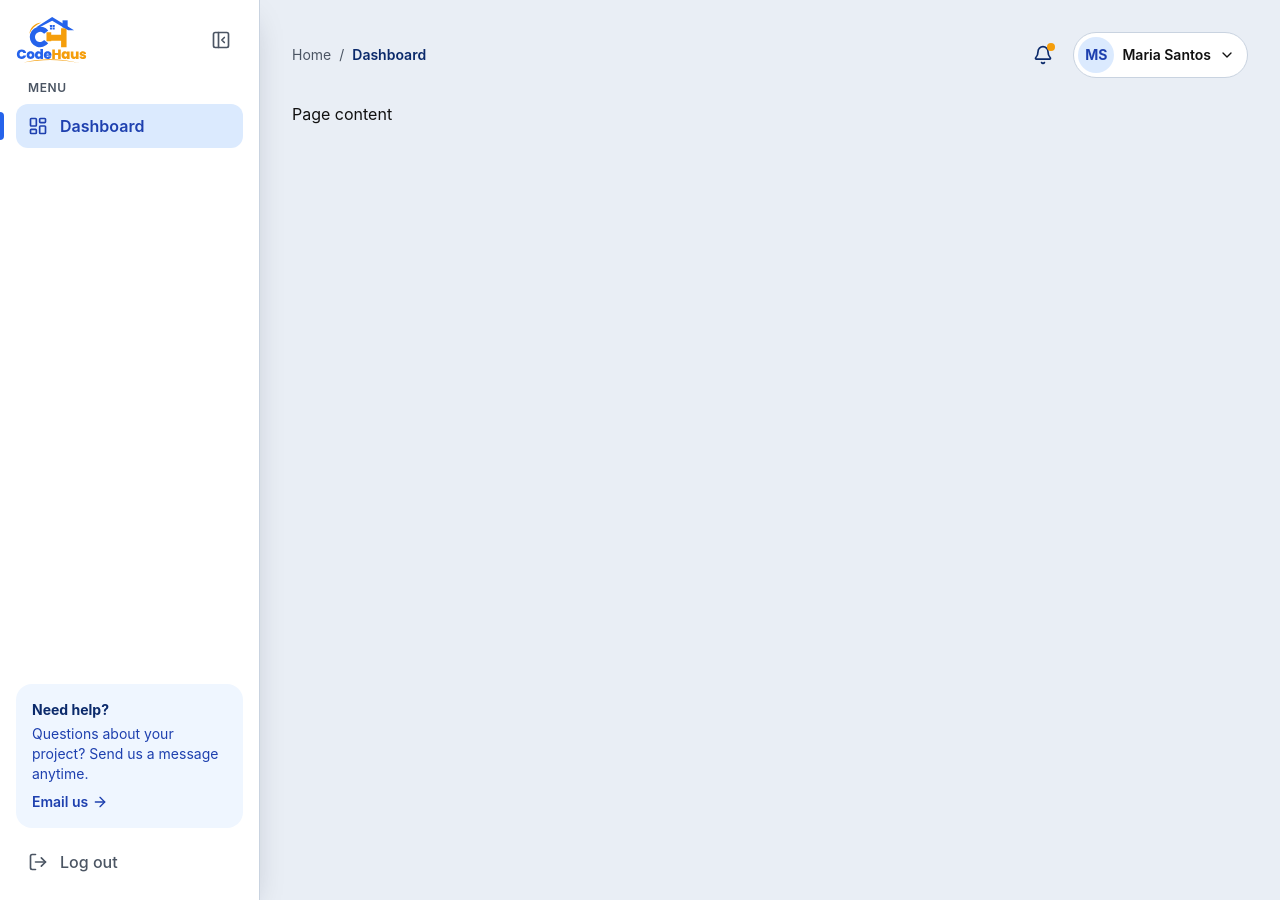
Test: collapsible sidebar › changes aria-expanded and the label on each click
Click the button named "Collapse sidebar". click: (221, 40)
box: [199,18,243,62]
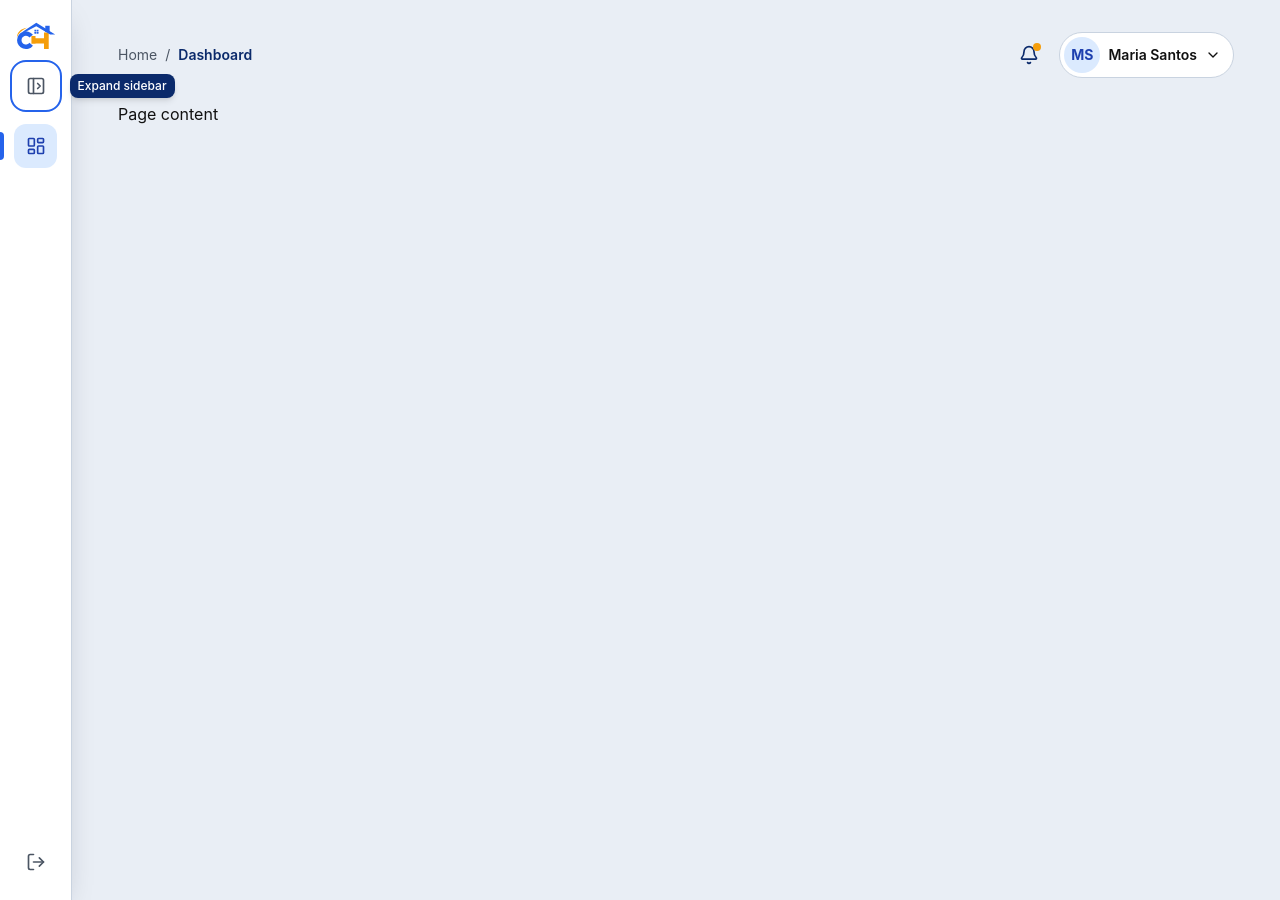
Expected: the button named "Expand sidebar" is collapsed
Click the button named "Expand sidebar". click: (36, 86)
box: [14,64,58,108]
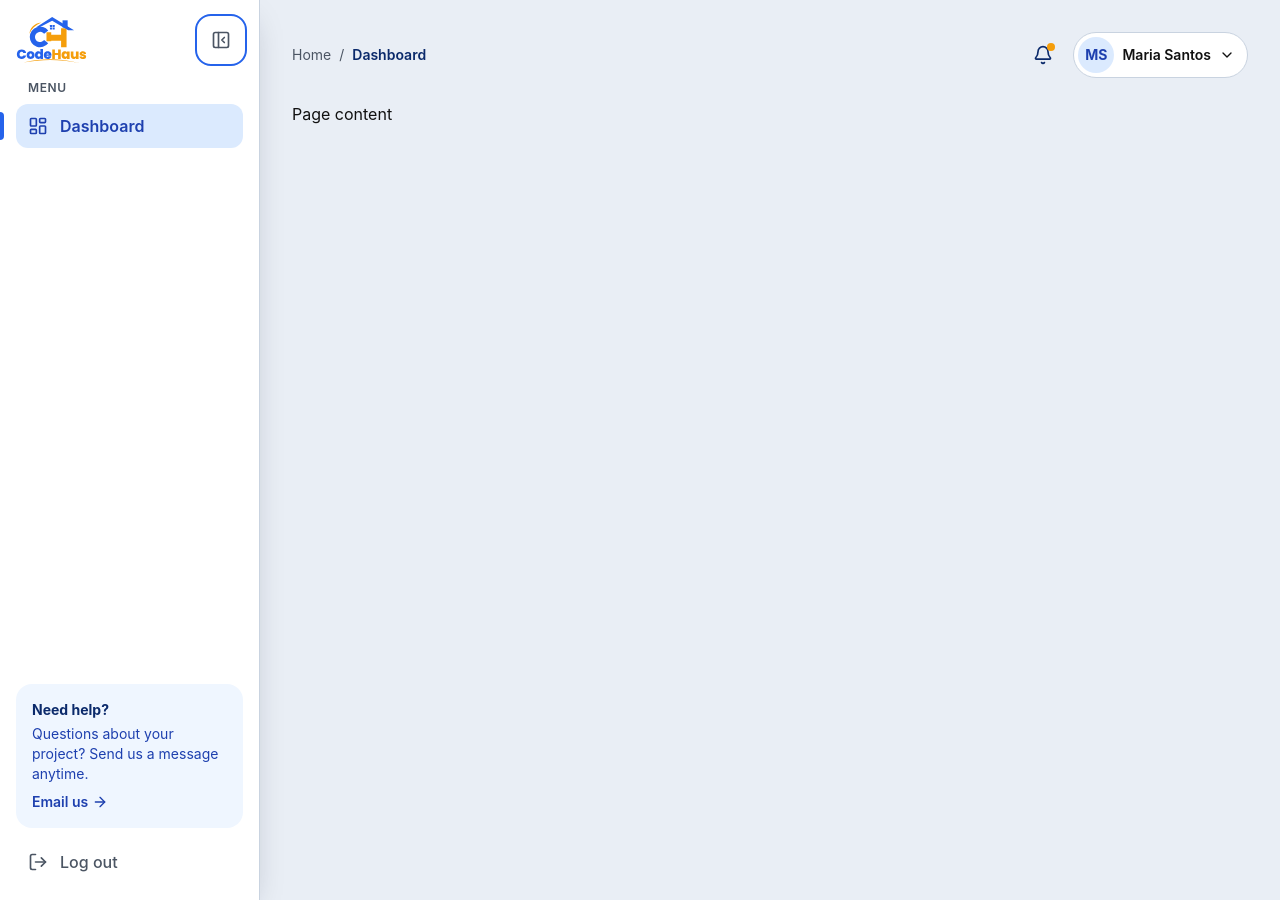
Expected: the button named "Collapse sidebar" is expanded, [199,18,243,62]
